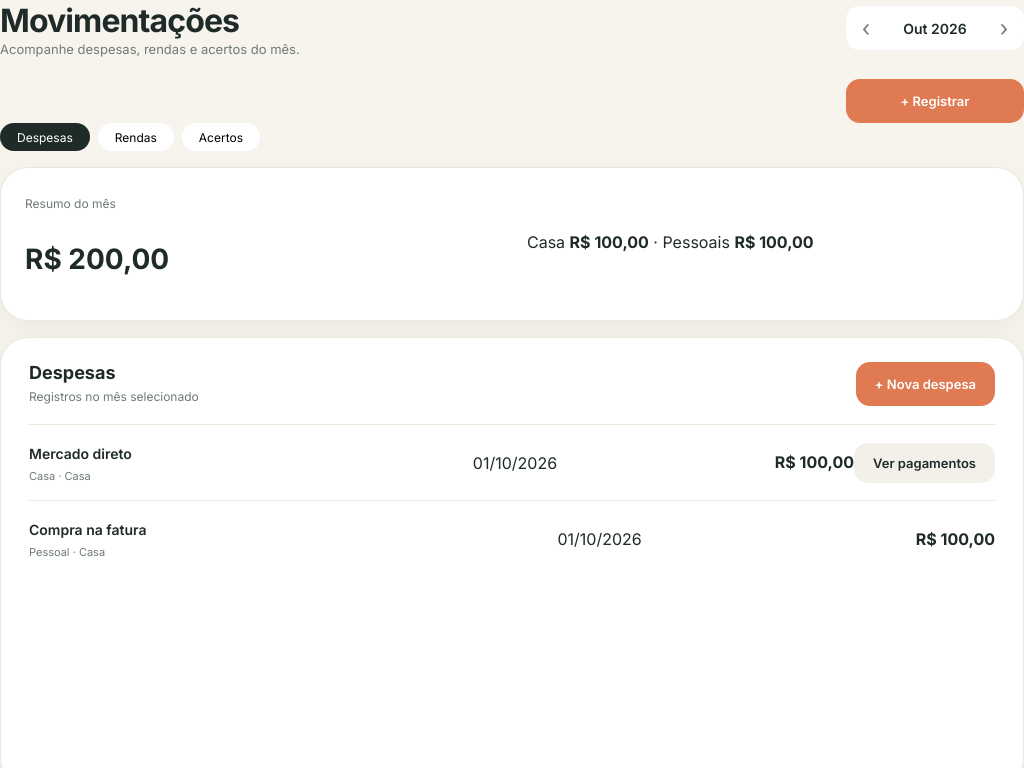
Test: mostra histórico e restante da despesa direta sem misturar pagamento da fatura
Click the button "Ver pagamentos". click: (924, 463)
box: [854,443,995,483]
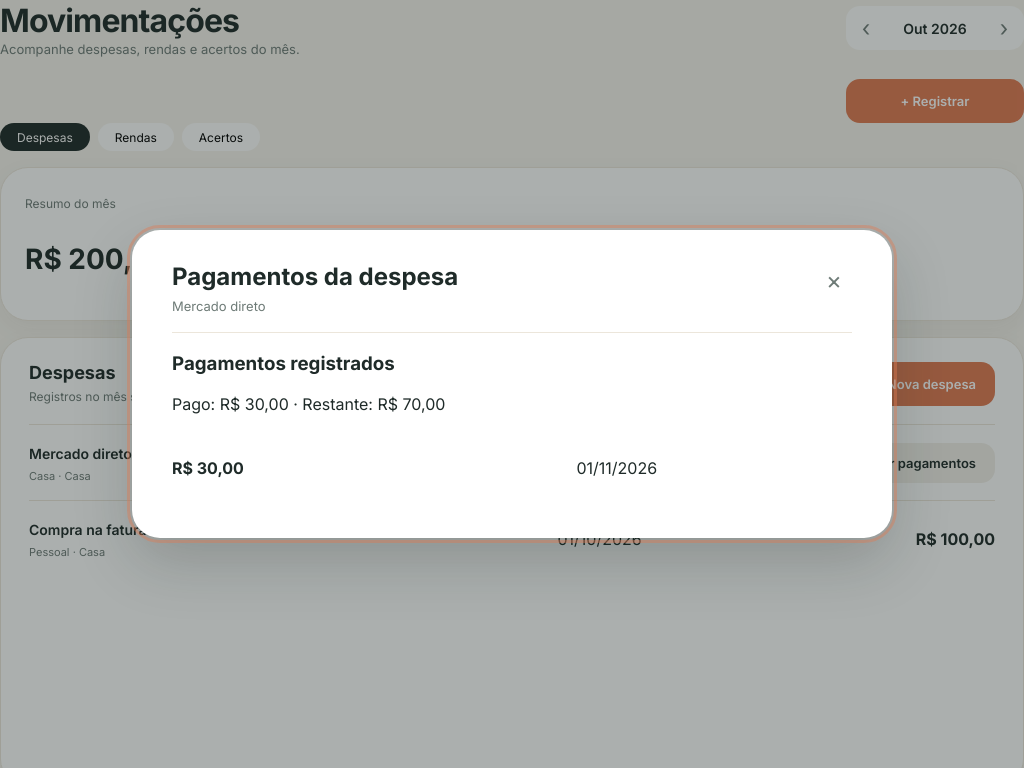
Expected: the text "Pago: R$ 30,00 · Restante: R$ 70,00" is shown, [172,394,445,414]
Expected: the text "01/11/2026" is shown, [576,458,657,478]
